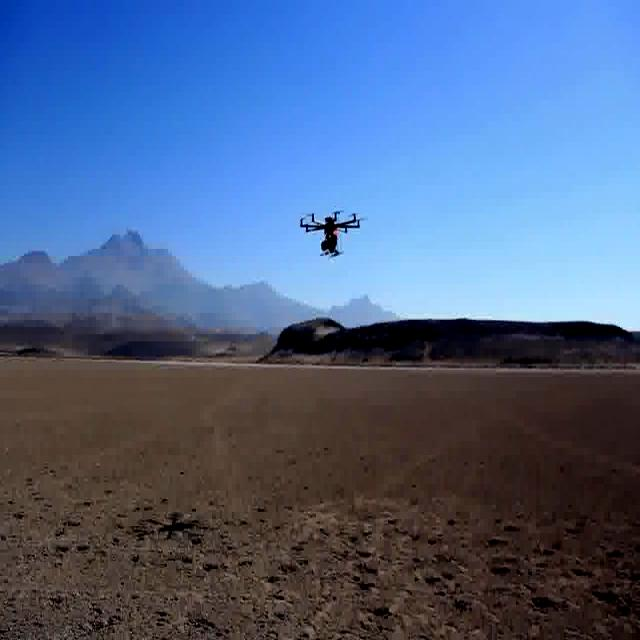drone: (297, 204, 363, 262)
